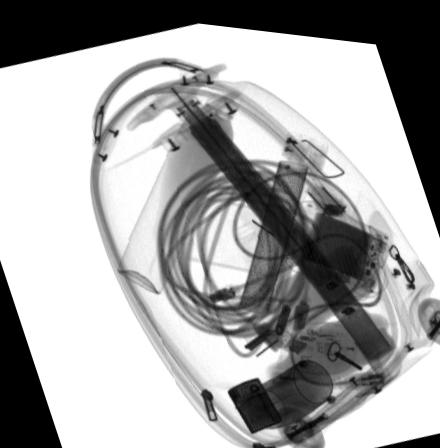Lighter: (226, 369, 283, 427)
Powerbank: (293, 196, 393, 284)
Sprayer: (234, 351, 333, 426)
